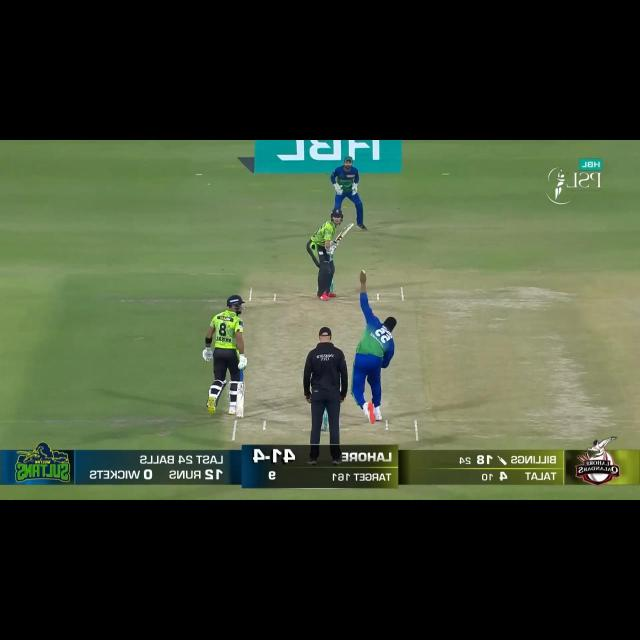bat: (334, 221, 356, 244), (234, 381, 246, 420)
toe: (344, 223, 356, 233), (233, 413, 246, 421)
